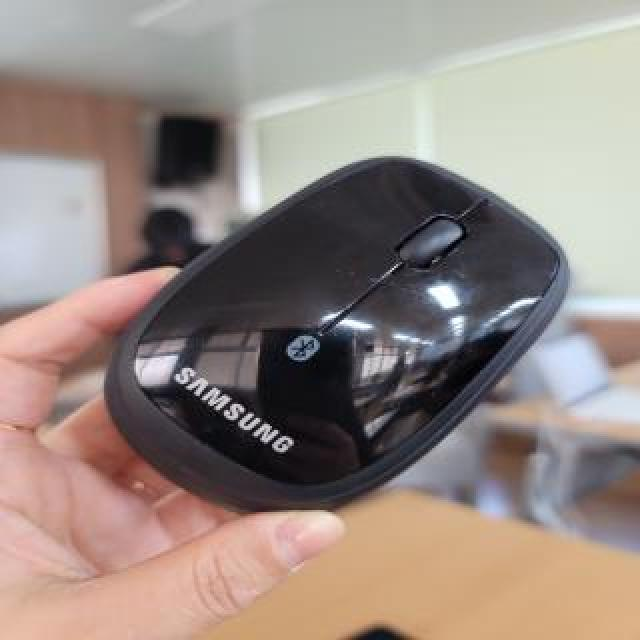mouse: (38, 82, 555, 538)
